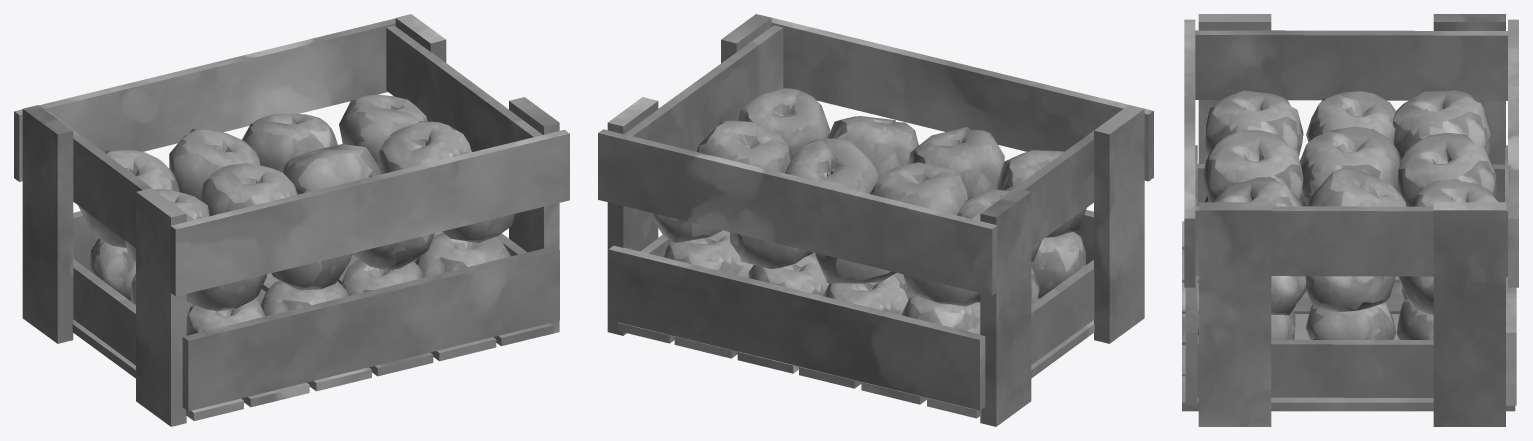
Rendered from SM_Crate_Apple_01b1.fbx.
3 views of the same model, side by side, from view 1: azimuth 30°, elevation 25°; view 2: azimuth 150°, elevation 25°; view 3: azimuth 270°, elevation 25° (orthographic). The views are drawn at different scales.
Visible parts, largest first — view 1: SM_Crate_Apple_01b1_LOD0; view 2: SM_Crate_Apple_01b1_LOD0; view 3: SM_Crate_Apple_01b1_LOD0.
Boxes of the visible parts, left/top/right/bottom form: SM_Crate_Apple_01b1_LOD0: left=14, top=14, right=569, bottom=426; SM_Crate_Apple_01b1_LOD0: left=598, top=14, right=1153, bottom=426; SM_Crate_Apple_01b1_LOD0: left=1182, top=14, right=1518, bottom=426.
Size of the model in its own units: 51.41 by 36.8 by 26.12.
